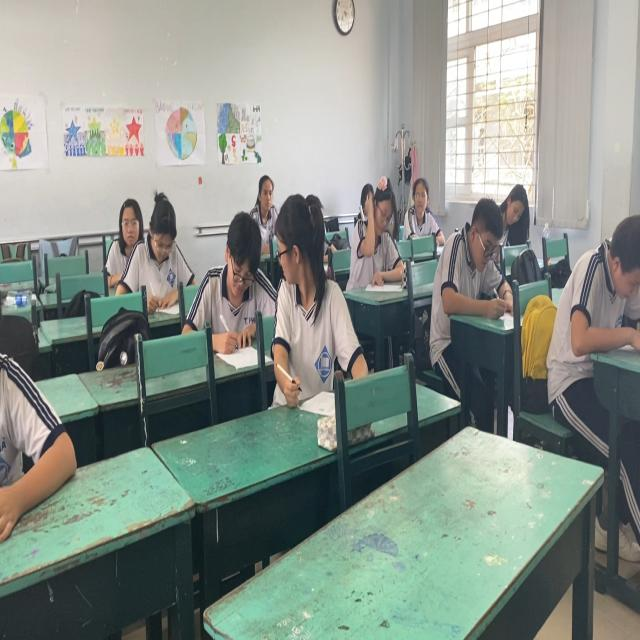cheating: (270, 192, 344, 410)
not_cheating: (571, 206, 640, 347), (444, 203, 510, 317), (139, 179, 194, 306), (199, 213, 264, 320), (353, 182, 404, 289), (398, 172, 439, 230), (112, 200, 145, 262), (248, 168, 278, 227), (498, 186, 524, 234)
